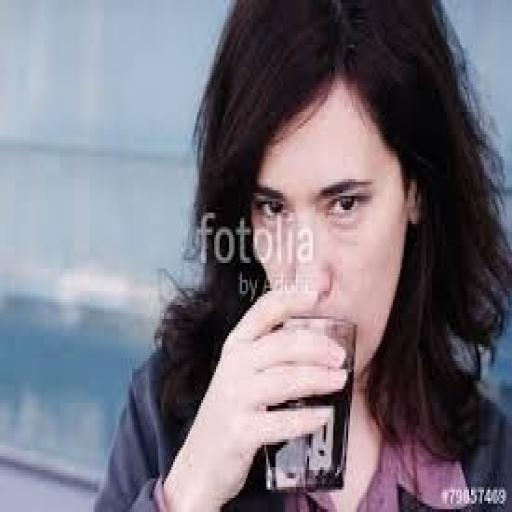drinking: (260, 314, 358, 492)
